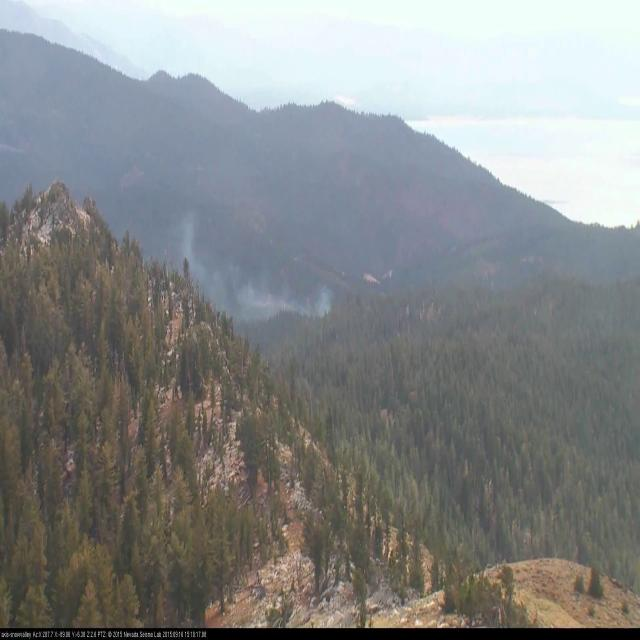smoke: (174, 186, 348, 334)
